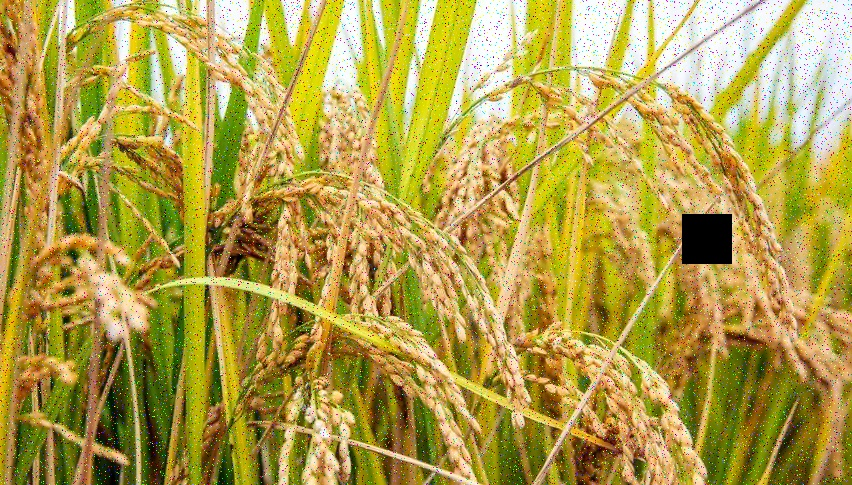rice: (527, 58, 812, 335), (197, 163, 475, 327), (239, 309, 478, 479), (68, 5, 313, 164), (485, 325, 706, 482)
